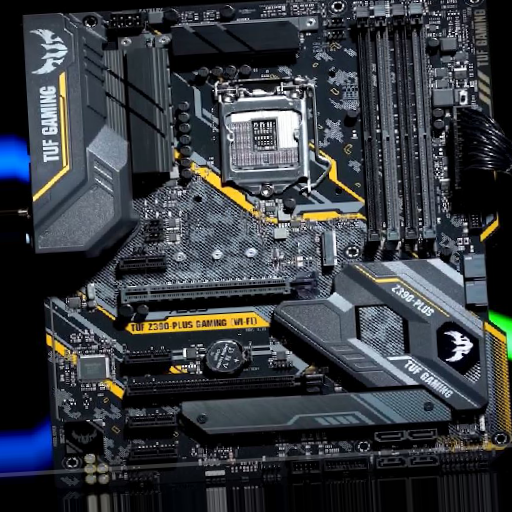CPU: (219, 74, 308, 200)
GPU: (118, 271, 320, 310), (127, 366, 328, 400)
MOTHERBOARD: (54, 1, 490, 487)
RAM: (354, 4, 436, 250)
SSD: (320, 228, 338, 271)
